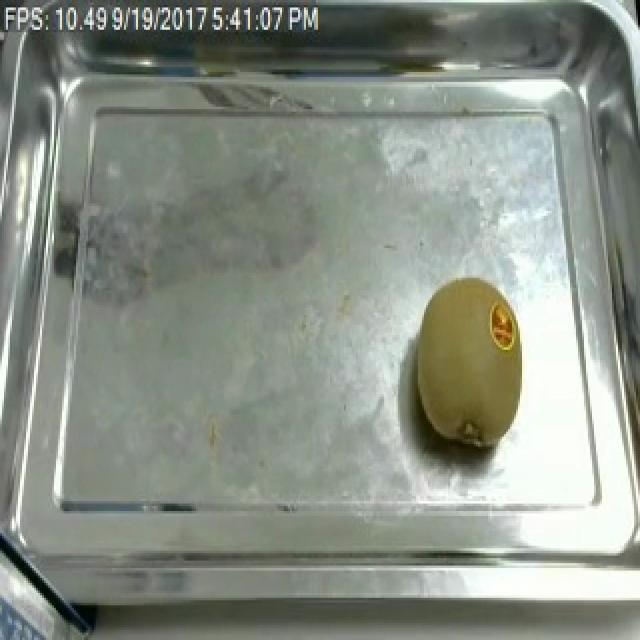Fruit: (404, 268, 534, 456)
